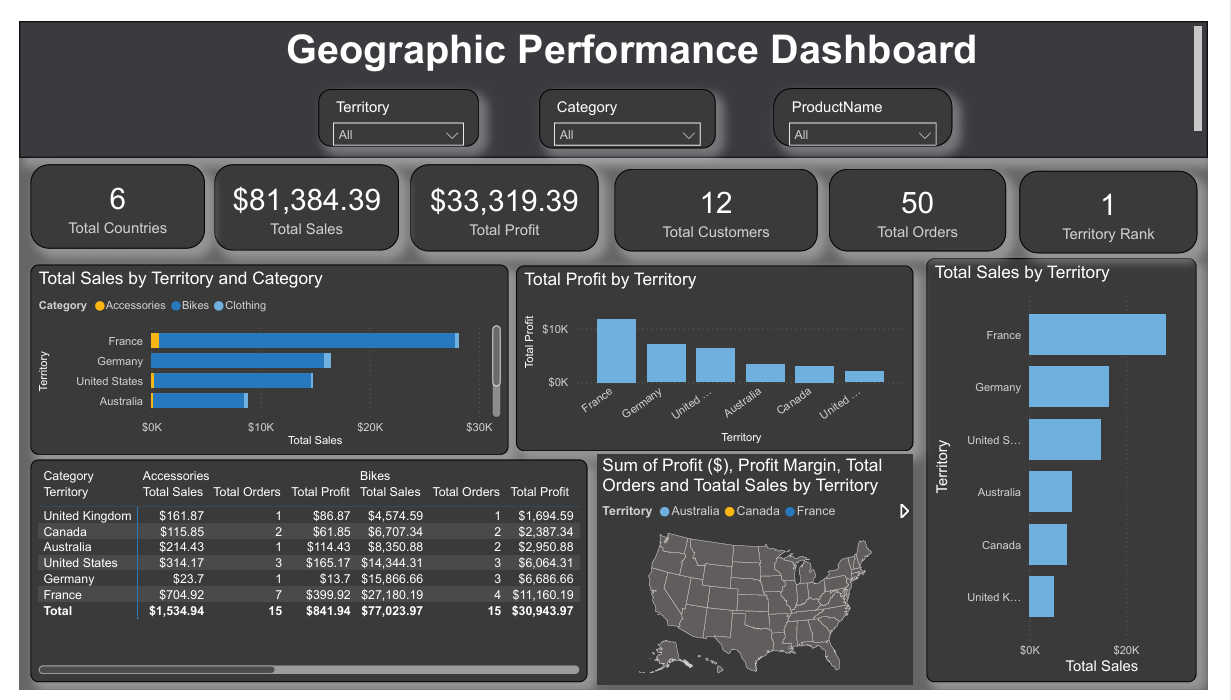

Layout of this report page (visuals, bound fields, positions):
{"tool":"powerbi","page":{"name":"Page 1","canvas":[1280,720],"ordinal":4},"visuals":[{"type":"textbox","box":[0,0,1280,146.7],"z":0},{"type":"card","fields":{"Values":["Sales Data.Total Profit"]},"box":[420.9,154.4,202.9,93.9],"z":1000},{"type":"slicer","fields":{"Values":["Sales Data.Territory"]},"box":[321.7,73.3,173.3,61.7],"z":2000},{"type":"slicer","fields":{"Values":["Sales Data.Category"]},"box":[560,73.3,190,63.3],"z":3000},{"type":"card","fields":{"Values":["Sales Data.Total Sales"]},"box":[210.5,154.4,198.4,92.4],"z":4000},{"type":"clusteredBarChart","fields":{"Y":["Sales Data.Total Sales"],"Category":["Sales Data.Territory"]},"box":[976.7,255,291.7,456.7],"z":5000},{"type":"barChart","fields":{"Series":["Sales Data.Category"],"Category":["Sales Data.Territory"],"Y":["Sales Data.Total Sales"]},"box":[11.7,261.7,515,205],"z":6000},{"type":"columnChart","fields":{"Y":["Sales Data.Total Profit"],"Category":["Sales Data.Territory"]},"box":[535,263.3,428.3,200],"z":7000},{"type":"slicer","fields":{"Values":["Sales Data.ProductName"]},"box":[811.7,71.7,193.3,63.3],"z":8000},{"type":"card","fields":{"Values":["Sales Data.Total Countries"]},"box":[12.1,154.4,187.8,90.9],"z":9000},{"type":"card","fields":{"Values":["Sales Data.Total Customers"]},"box":[640.5,159,219.6,89.3],"z":10000},{"type":"pivotTable","fields":{"Values":["Sales Data.Total Sales","Sales Data.Total Orders","Sales Data.Total Profit"],"Columns":["Sales Data.Category"],"Rows":["Sales Data.Territory"]},"box":[11.7,471.7,600,240],"z":11000},{"type":"card","fields":{"Values":["Sales Data.Total Orders"]},"box":[872.2,159,190.8,89.3],"z":12000},{"type":"card","fields":{"Values":["Sales Data.Territory Rank"]},"box":[1076.6,160.5,192.3,89.3],"z":13000},{"type":"shapeMap","fields":{"Series":["Sales Data.Territory"],"Value":["Sum(Sales Data.Profit ($))"]},"box":[623.3,466.7,340,248.3],"z":14000}]}

Visuals, with their boxes in screenshot pixels (x1, y1, x2, y2), scaled from the page's 1280x720 canvas onto the 1231x700 screenshot:
textbox: 0,0,1230,143
card - Sales Data.Total Profit: 405,150,600,241
slicer - Sales Data.Territory: 309,71,476,131
slicer - Sales Data.Category: 539,71,721,133
card - Sales Data.Total Sales: 202,150,393,240
clusteredBarChart - Sales Data.Total Sales x Sales Data.Territory: 939,248,1220,692
barChart - Sales Data.Category x Sales Data.Territory: 11,254,507,454
columnChart - Sales Data.Total Profit x Sales Data.Territory: 515,256,926,450
slicer - Sales Data.ProductName: 781,70,967,131
card - Sales Data.Total Countries: 12,150,192,238
card - Sales Data.Total Customers: 616,155,827,241
pivotTable - Sales Data.Total Sales x Sales Data.Total Orders: 11,459,588,692
card - Sales Data.Total Orders: 839,155,1022,241
card - Sales Data.Territory Rank: 1035,156,1220,243
shapeMap - Sales Data.Territory x Sum(Sales Data.Profit ($)): 599,454,926,695
